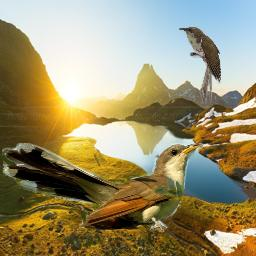Cuckoo: (2, 143, 203, 232), (178, 26, 221, 104)
